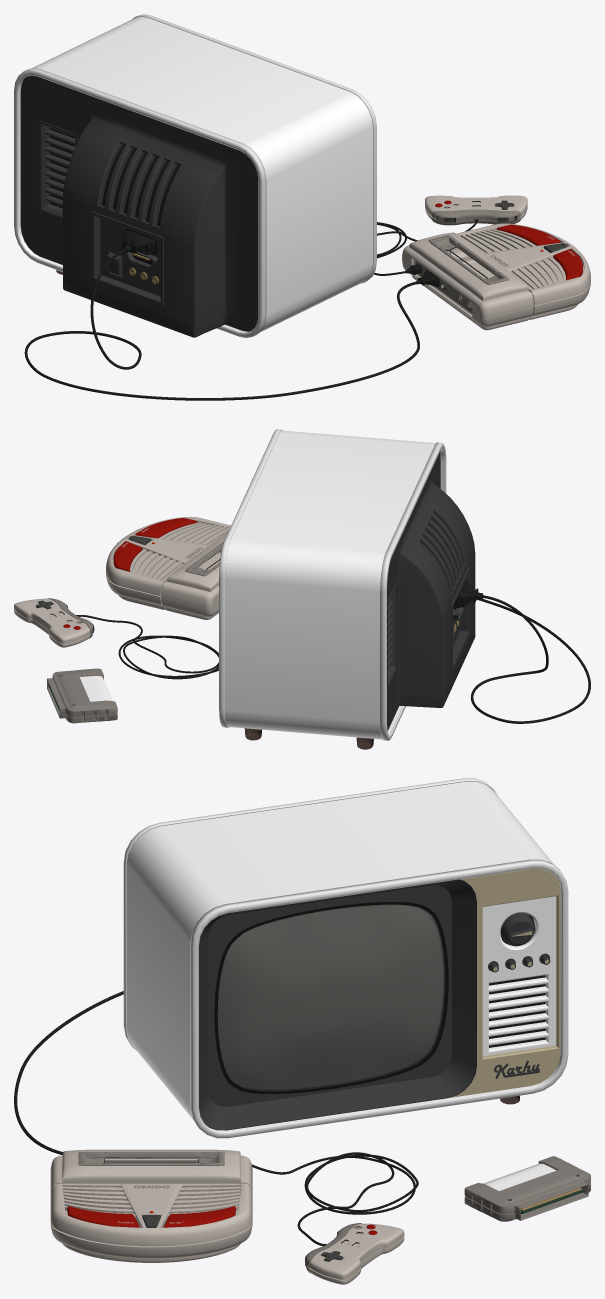
3 renders of one model, top to bottom at view 1: azimuth 30°, elevation 25°; view 2: azimuth 150°, elevation 25°; view 3: azimuth 270°, elevation 25°, orthographic. The views are drawn at different scales.
Parts seen in each view (by area): view 1: Cube.002, Cube.008, Cube.010, Cube.007, Cube.005, BezierCurve.001, base, Cylinder.009, Cube.001, Cube.013, BezierCurve; view 2: Cube.008, Cube.002, Cube.010, Cube.007, Cartridge, base, BezierCurve.001, BezierCurve, Cube.005, Cube.013, Cylinder.009; view 3: Cube.008, Plane.001, Plane.003, Cube.001, Cube.010, Cube.007, Plane, Cube.003, Cartridge, Cube.009, base, BezierCurve (+3 smaller).
Boxes of the visible parts, x1=… form: Cube.002: x1=20, y1=75, x2=258, y2=337; Cube.008: x1=32, y1=16, x2=372, y2=331; Cube.010: x1=402, y1=223, x2=590, y2=330; Cube.007: x1=14, y1=14, x2=376, y2=338; Cube.005: x1=91, y1=211, x2=163, y2=305; BezierCurve.001: x1=24, y1=248, x2=419, y2=400; base: x1=425, y1=195, x2=527, y2=225; Cylinder.009: x1=122, y1=228, x2=157, y2=254; Cube.001: x1=18, y1=77, x2=247, y2=332; Cube.013: x1=553, y1=249, x2=582, y2=280; BezierCurve: x1=373, y1=220, x2=477, y2=275; Cube.008: x1=225, y1=430, x2=435, y2=739; Cube.002: x1=387, y1=452, x2=475, y2=730; Cube.010: x1=106, y1=517, x2=230, y2=619; Cube.007: x1=219, y1=429, x2=446, y2=740; Cartridge: x1=47, y1=668, x2=117, y2=723; base: x1=14, y1=598, x2=93, y2=647; BezierCurve.001: x1=471, y1=595, x2=590, y2=723; BezierCurve: x1=77, y1=615, x2=218, y2=679; Cube.005: x1=451, y1=567, x2=469, y2=671; Cube.013: x1=135, y1=518, x2=196, y2=538; Cylinder.009: x1=453, y1=581, x2=483, y2=609; Cube.008: x1=126, y1=781, x2=554, y2=1118; Plane.001: x1=214, y1=902, x2=448, y2=1094; Plane.003: x1=218, y1=905, x2=442, y2=1087; Cube.001: x1=199, y1=868, x2=561, y2=1131; Cube.010: x1=50, y1=1149, x2=252, y2=1262; Cube.007: x1=123, y1=778, x2=568, y2=1138; Plane: x1=208, y1=885, x2=451, y2=1106; Cube.003: x1=482, y1=970, x2=556, y2=1055; Cartridge: x1=464, y1=1156, x2=590, y2=1221; Cube.009: x1=482, y1=896, x2=556, y2=980; base: x1=306, y1=1223, x2=404, y2=1284; BezierCurve: x1=251, y1=1152, x2=418, y2=1246.
Bounding box in the file's own units: 5.9 × 2.18 × 4.55.
